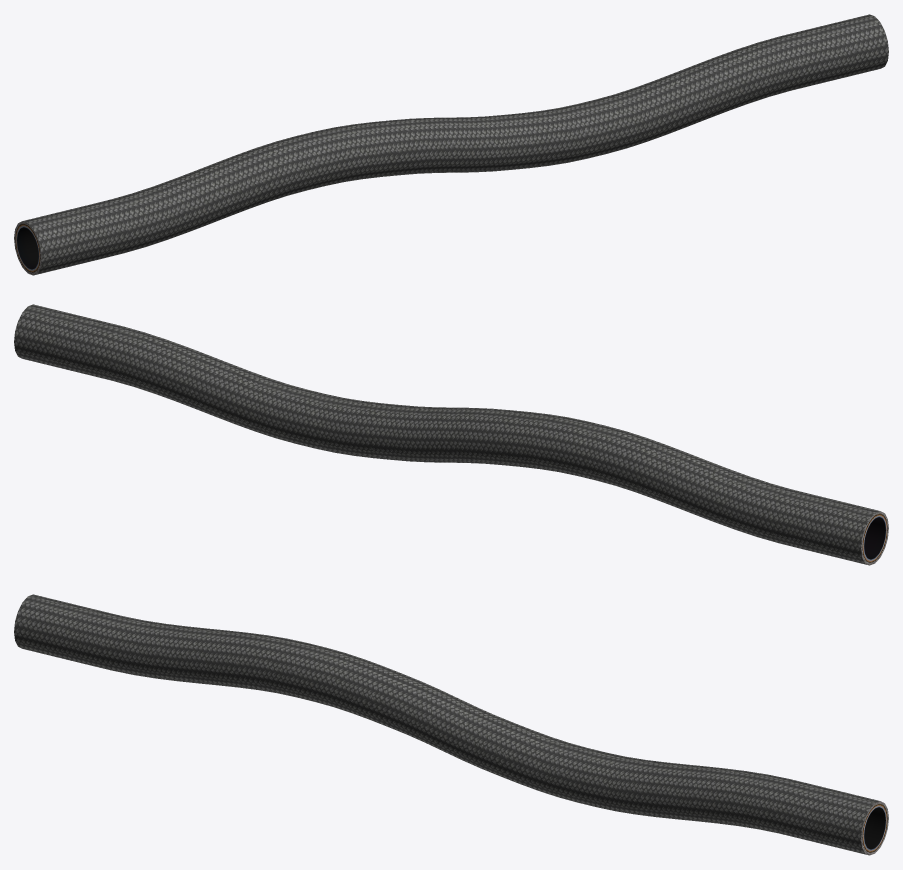
The picture shows the model from 3 angles, top to bottom: view 1: azimuth 30°, elevation 25°; view 2: azimuth 150°, elevation 25°; view 3: azimuth 330°, elevation 25°; orthographic projection.
Visible parts, largest first — view 1: ProBlack_SB_Aramid-08; view 2: ProBlack_SB_Aramid-08; view 3: ProBlack_SB_Aramid-08.
Boxes of the visible parts, box(x1,y1,x2,y2) form: ProBlack_SB_Aramid-08: box(14, 14, 888, 275); ProBlack_SB_Aramid-08: box(14, 304, 888, 565); ProBlack_SB_Aramid-08: box(14, 594, 888, 855).
Bounding box in the file's own units: 0.3074 × 0.0302 × 0.0175.
Materials: 2 (2 with a texture image).
